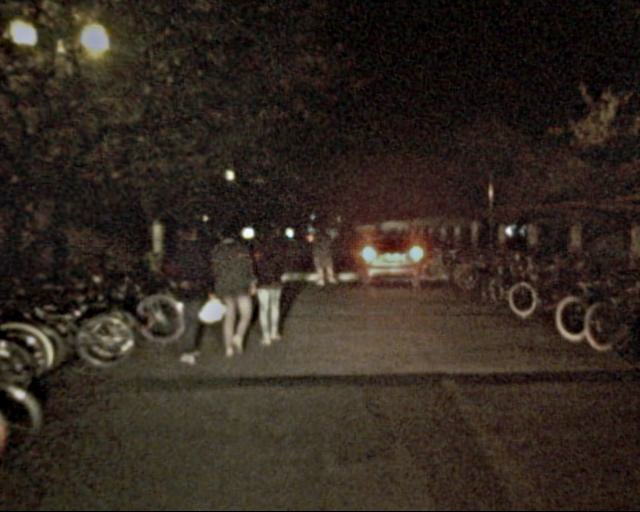person: (163, 209, 211, 358), (216, 226, 256, 360), (250, 227, 290, 347), (311, 223, 338, 287)
